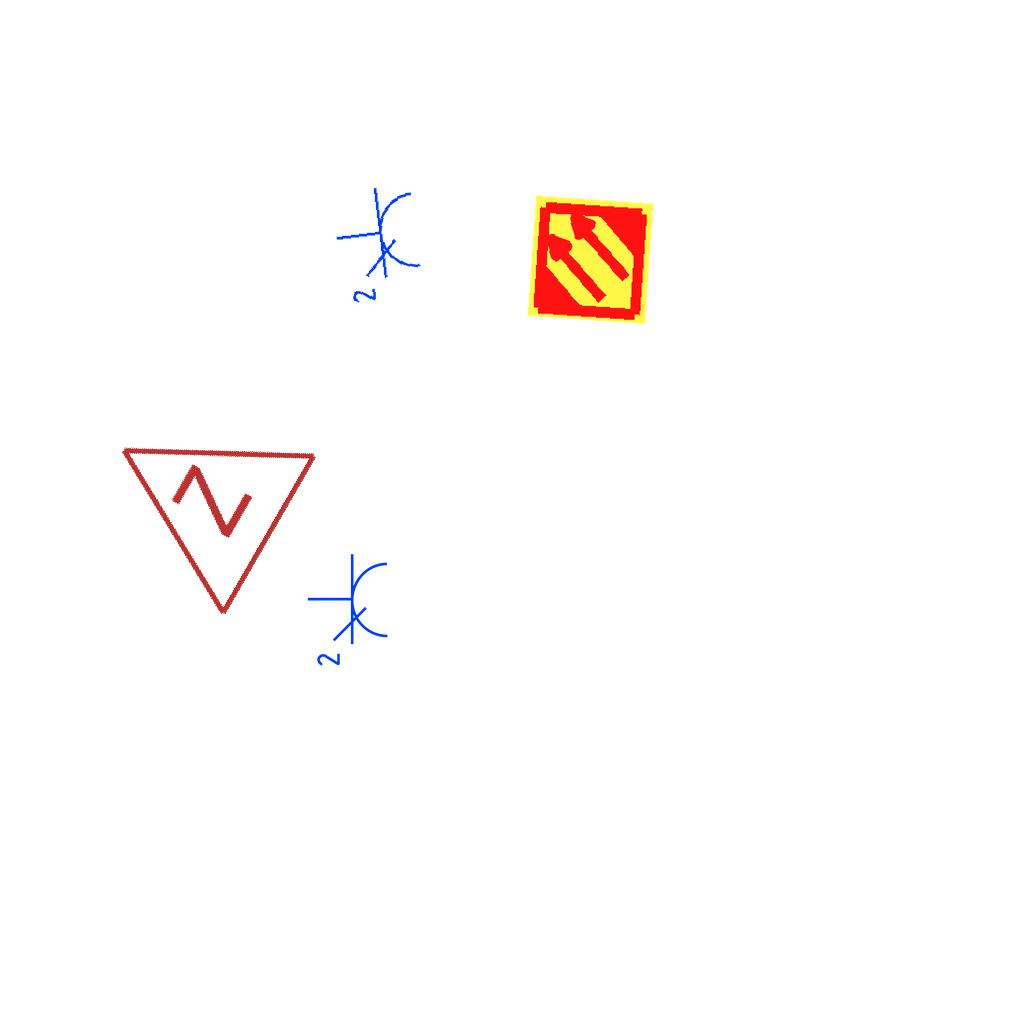ASR_Ansaugrauchmelder: (523, 192, 658, 327)
Schukosteckdose_mehrfach: (328, 181, 432, 312), (306, 552, 394, 673)
Zimmersignalleuchte: (60, 360, 332, 630)
